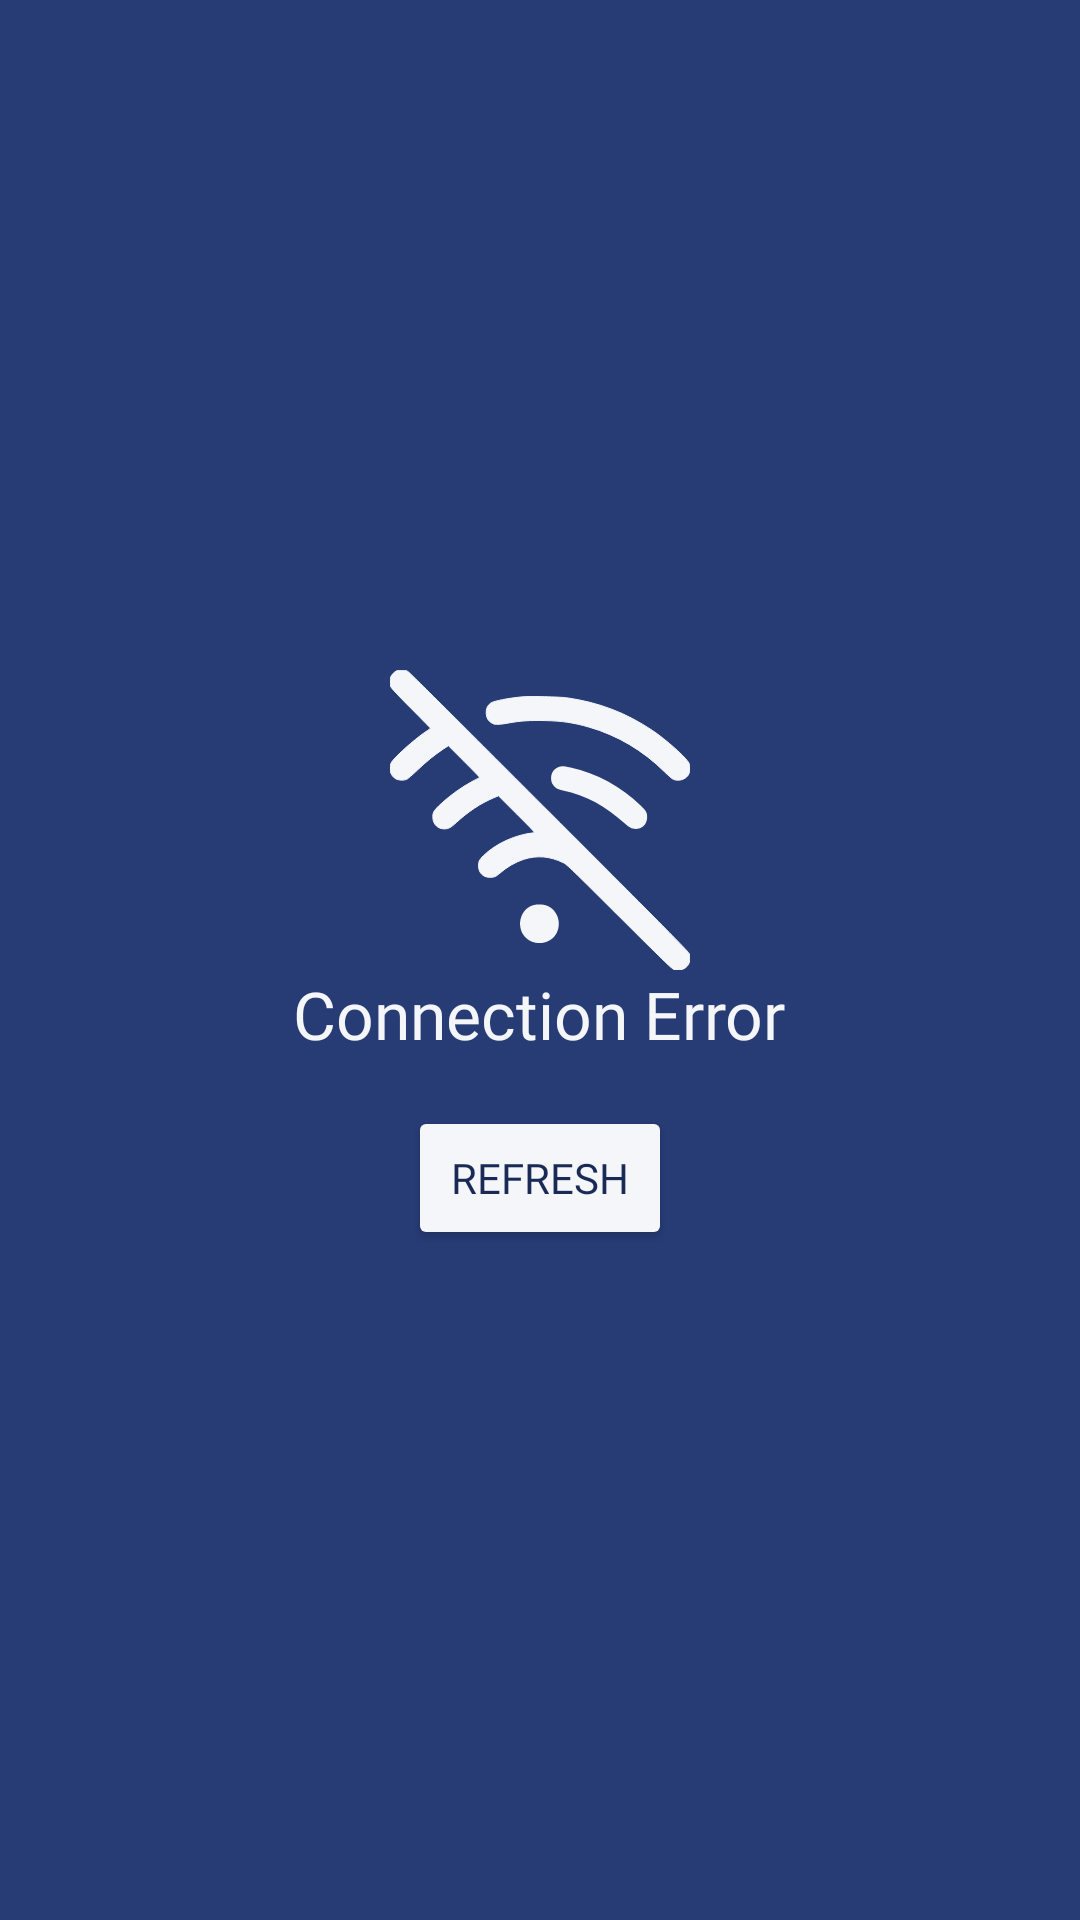

Icons on this 1080 × 1920 Android screen, each with its box as (x1, y1, x2, y2):
no signal: (390, 670, 690, 970)
